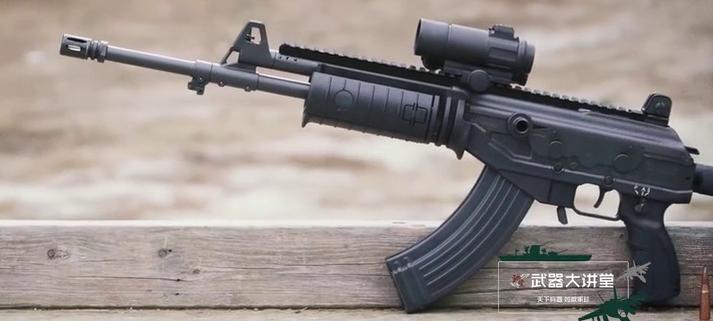gun: (1, 1, 713, 321)
